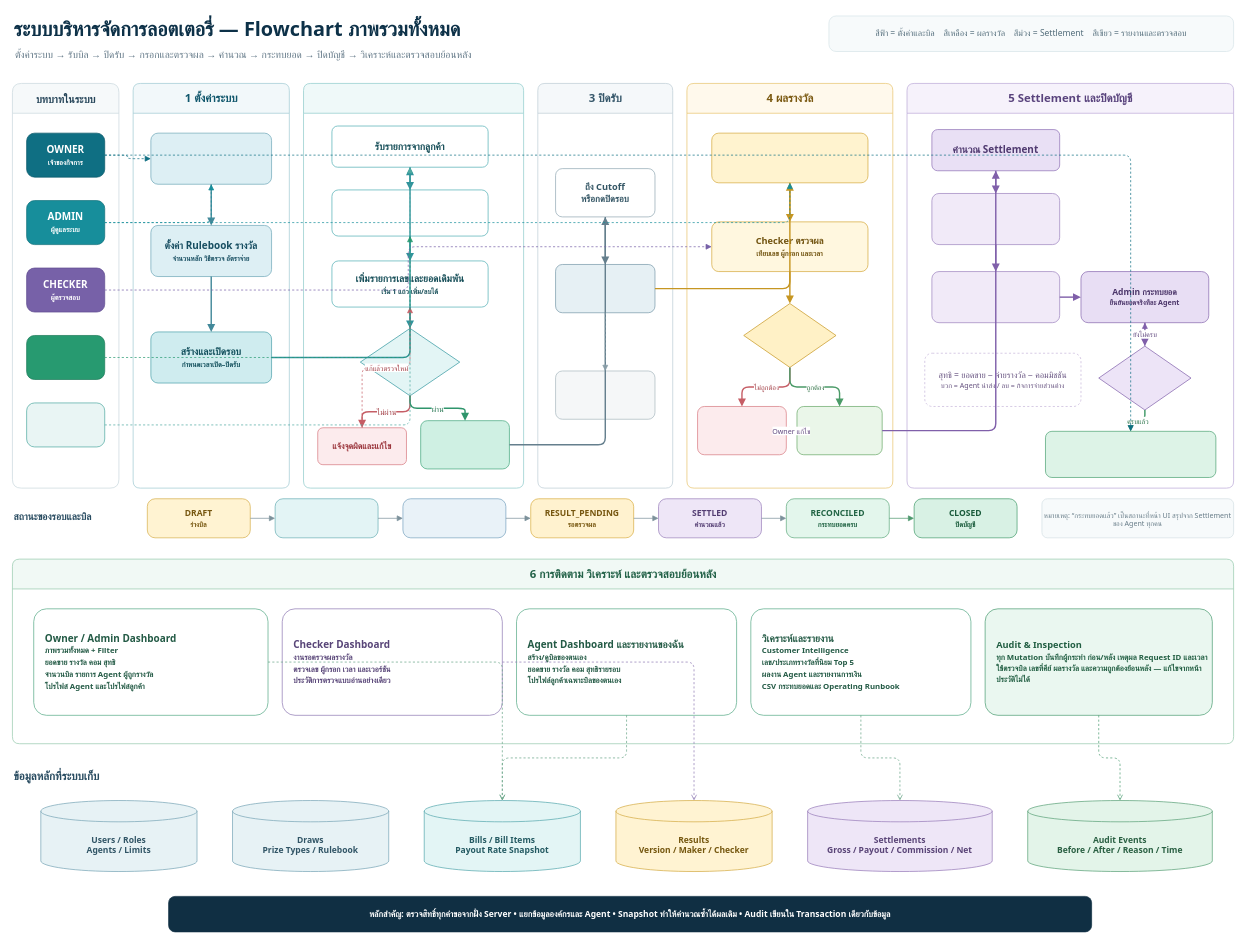
This 1246x944 diagram has some shape labels left out. The shapes that lost their labels are listed below. From the top down, each one's box as (x1, y1, x2, y2) in pixels, then its label:
(150, 132, 272, 184): จัดการผู้ใช้และ Agent บทบาท บัญชี วงเงิน ค่าคอม
(711, 132, 868, 183): Admin / Owner กรอกผลรางวัล กรอกตามประเภทและจำนวนหลัก
(331, 189, 488, 236): สร้างบิลร่าง เลือก Agent และชื่อลูกค้า
(931, 193, 1060, 245): ตรวจเลขถูกรางวัล ยอดจ่าย = เดิมพัน × อัตราจ่าย Snapshot
(303, 83, 524, 488): 2 รับบิลและยืนยัน
(555, 264, 655, 313): ล็อกรอบและบิลที่ยืนยัน
(931, 271, 1060, 323): สรุปต่อ Agent ยอดขาย / รางวัล / คอม / สุทธิ
(743, 303, 836, 367): ผลถูกต้อง?
(26, 335, 105, 379): AGENT ตัวแทนขาย
(360, 328, 460, 396): ผ่านกฎทั้งหมด? หลักเลข / เลขซ้ำ / วงเงิน
(555, 370, 655, 419): ยกเลิกบิลร่างที่ค้าง ป้องกันยอดเปลี่ยนหลังปิดรับ
(1098, 345, 1191, 410): ครบทุก Agent?
(26, 402, 105, 447): ลูกค้า ส่งรายการซื้อ
(420, 420, 509, 469): ยืนยันบิล ออกเลขบิล + ล็อกอัตราจ่าย Snapshot
(697, 406, 786, 455): ตีกลับพร้อมเหตุผล Owner แก้แล้วอนุมัติได้ทันที
(796, 406, 882, 455): อนุมัติผลรางวัล เก็บเวอร์ชันเพื่อตรวจย้อนหลัง
(1045, 431, 1216, 477): Owner อนุมัติและปิดบัญชี รอบเสร็จสมบูรณ์ แก้ไขไม่ได้
(274, 498, 378, 538): CONFIRMED ยืนยันแล้ว
(402, 498, 506, 538): LOCKED ปิดรับแล้ว
